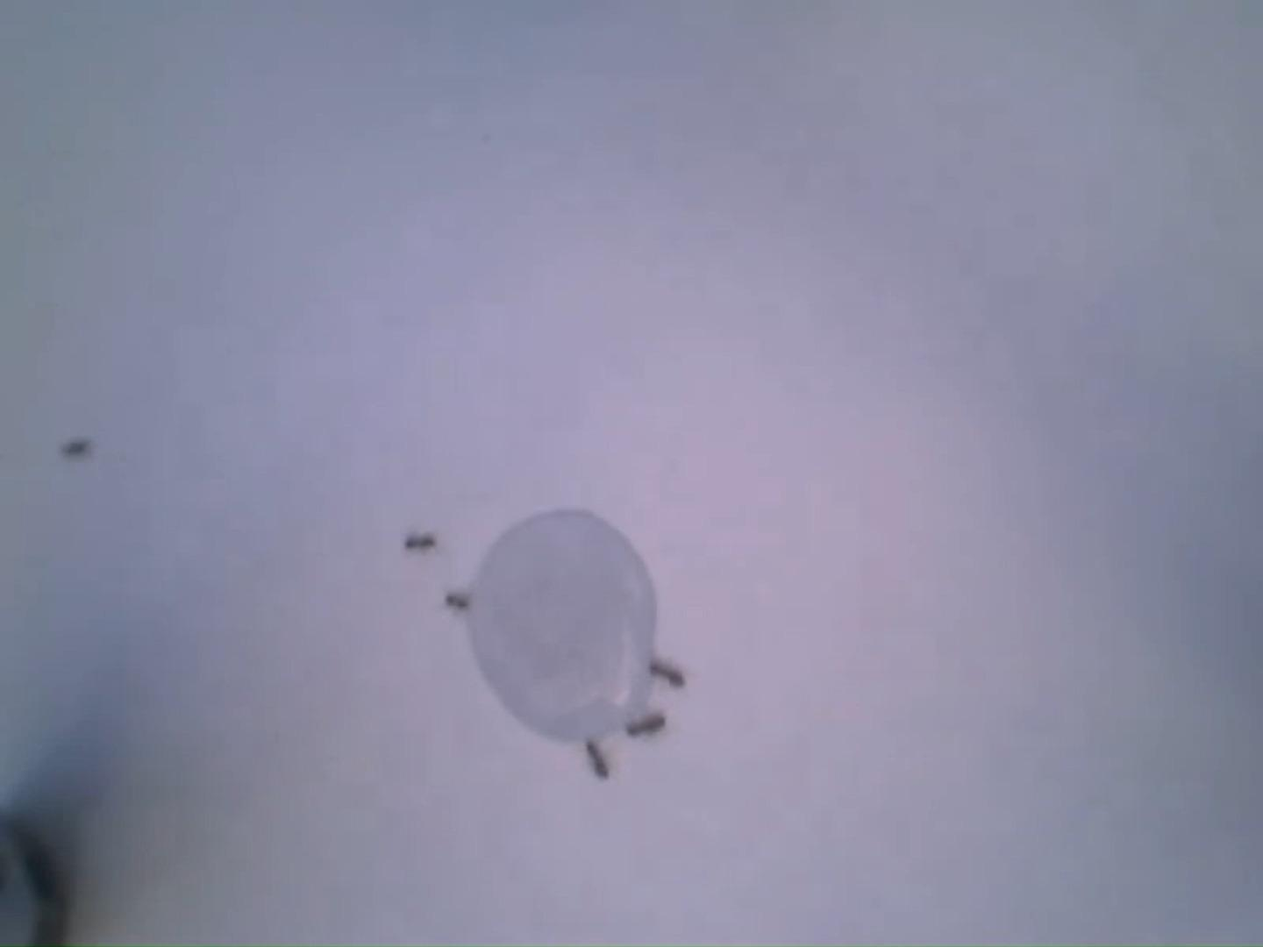Ant: (628, 711, 669, 737), (650, 658, 686, 686), (588, 740, 611, 778), (407, 533, 438, 551), (65, 437, 91, 456), (447, 592, 472, 611)
